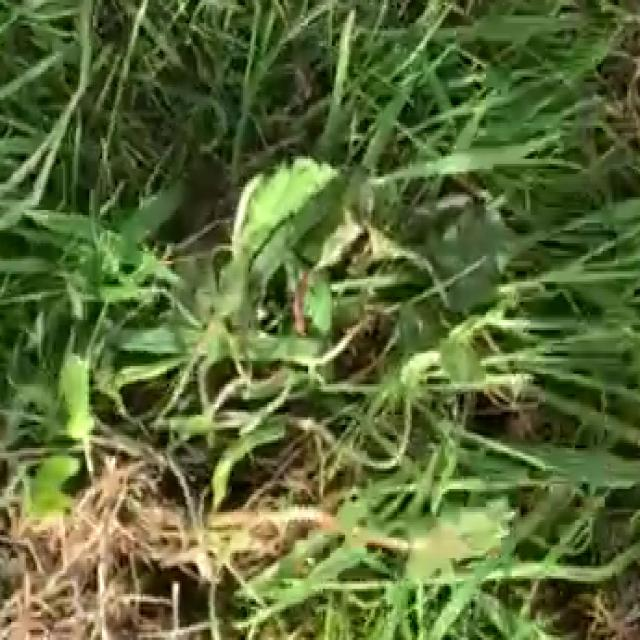organic waste: (130, 118, 579, 471)
